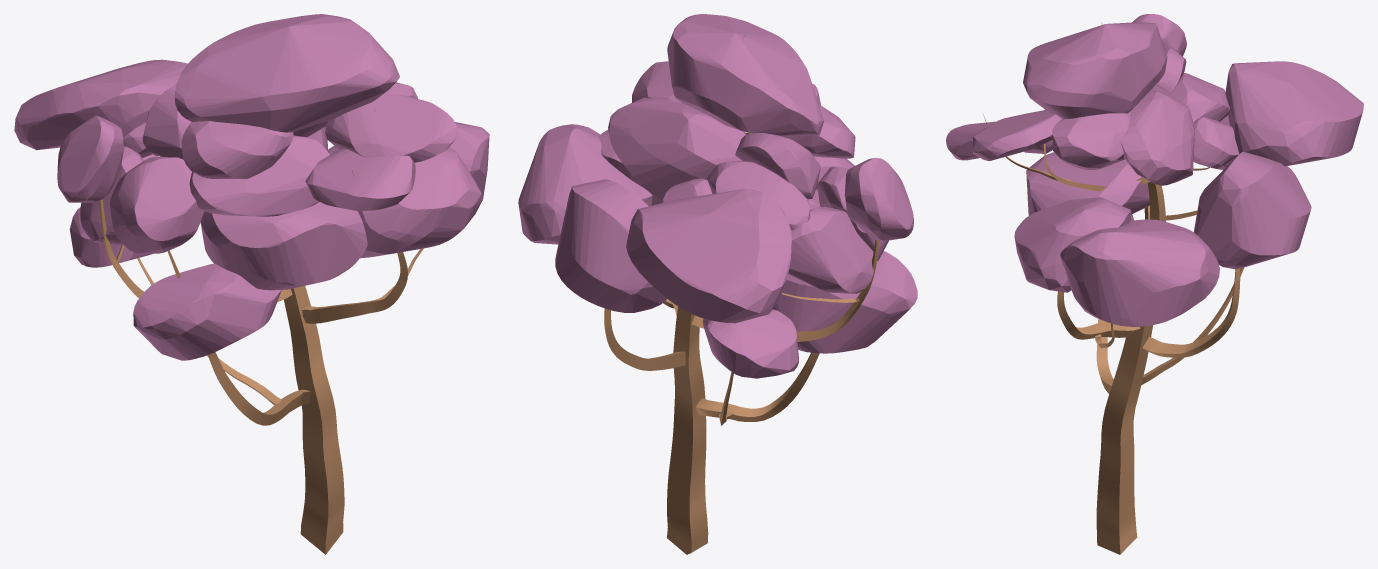
Rendered from sakura_tree.glb.
The picture shows the model from 3 angles, left to right: view 1: azimuth 30°, elevation 25°; view 2: azimuth 150°, elevation 25°; view 3: azimuth 270°, elevation 25°; orthographic projection. The views are drawn at different scales.
Parts seen in each view (by area): view 1: brush_MatteHull_g1_b0_6, brush_Spikes_g1_b0_5; view 2: brush_MatteHull_g1_b0_6, brush_Spikes_g1_b0_5; view 3: brush_MatteHull_g1_b0_6, brush_Spikes_g1_b0_5.
Part boxes in pixels (x1=…): brush_MatteHull_g1_b0_6: x1=14, y1=14, x2=489, y2=360; brush_Spikes_g1_b0_5: x1=99, y1=33, x2=423, y2=554; brush_MatteHull_g1_b0_6: x1=518, y1=14, x2=917, y2=378; brush_Spikes_g1_b0_5: x1=604, y1=35, x2=878, y2=554; brush_MatteHull_g1_b0_6: x1=946, y1=14, x2=1363, y2=326; brush_Spikes_g1_b0_5: x1=983, y1=22, x2=1243, y2=554.
Size of the model in its own units: 2.1 by 2.7 by 2.
